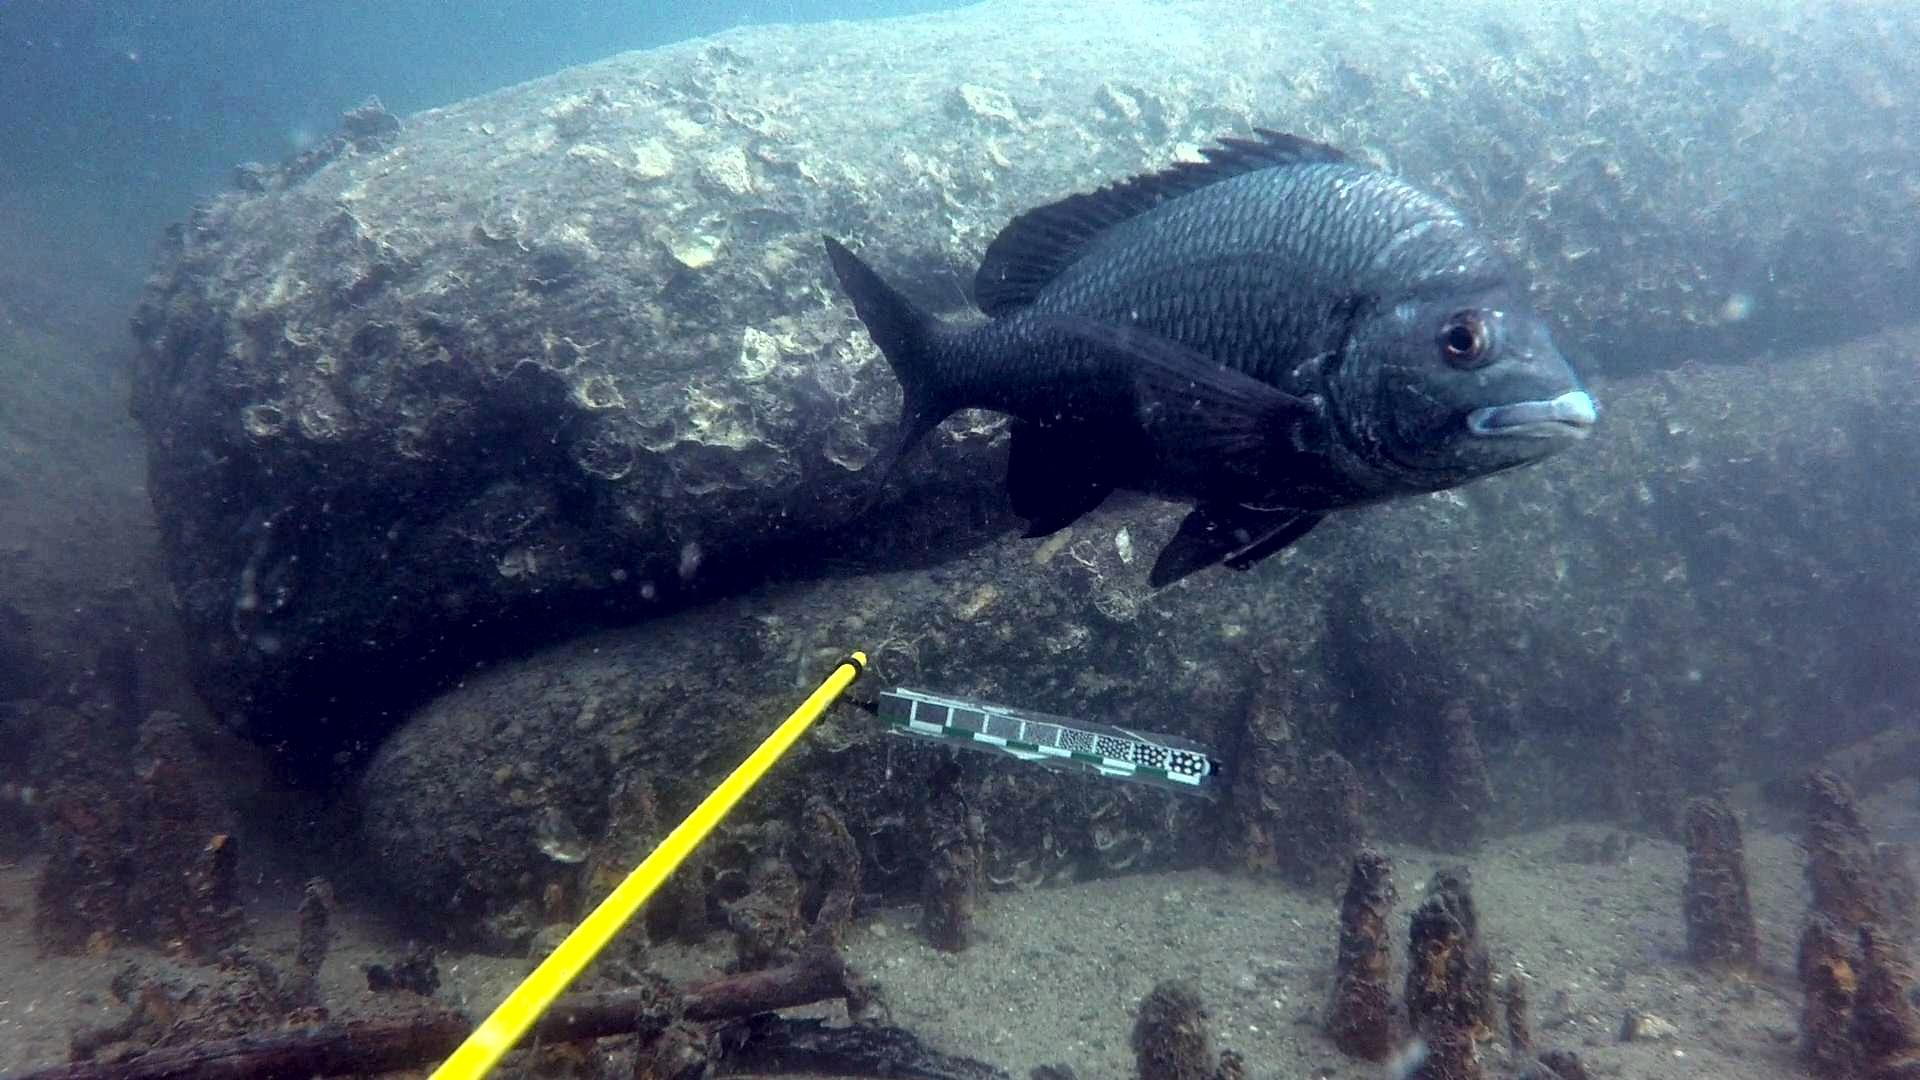acanthopagrus palmaris: (815, 123, 1606, 594)
